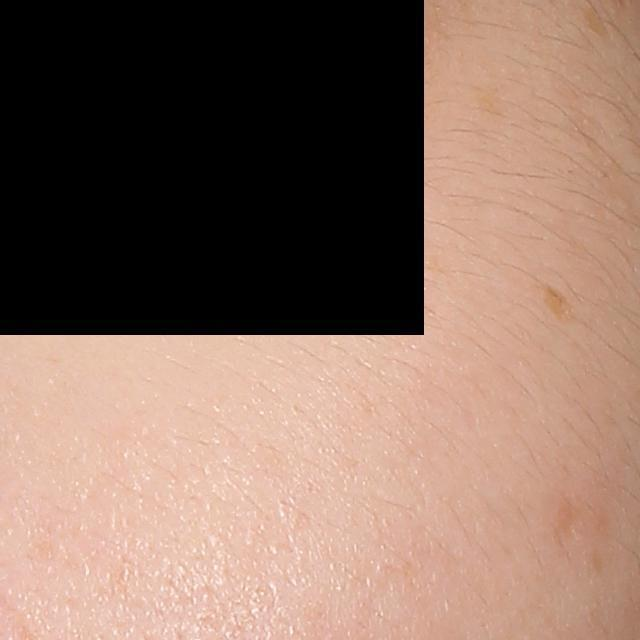melasma: (468, 83, 516, 128), (540, 282, 578, 321), (578, 3, 613, 44)
